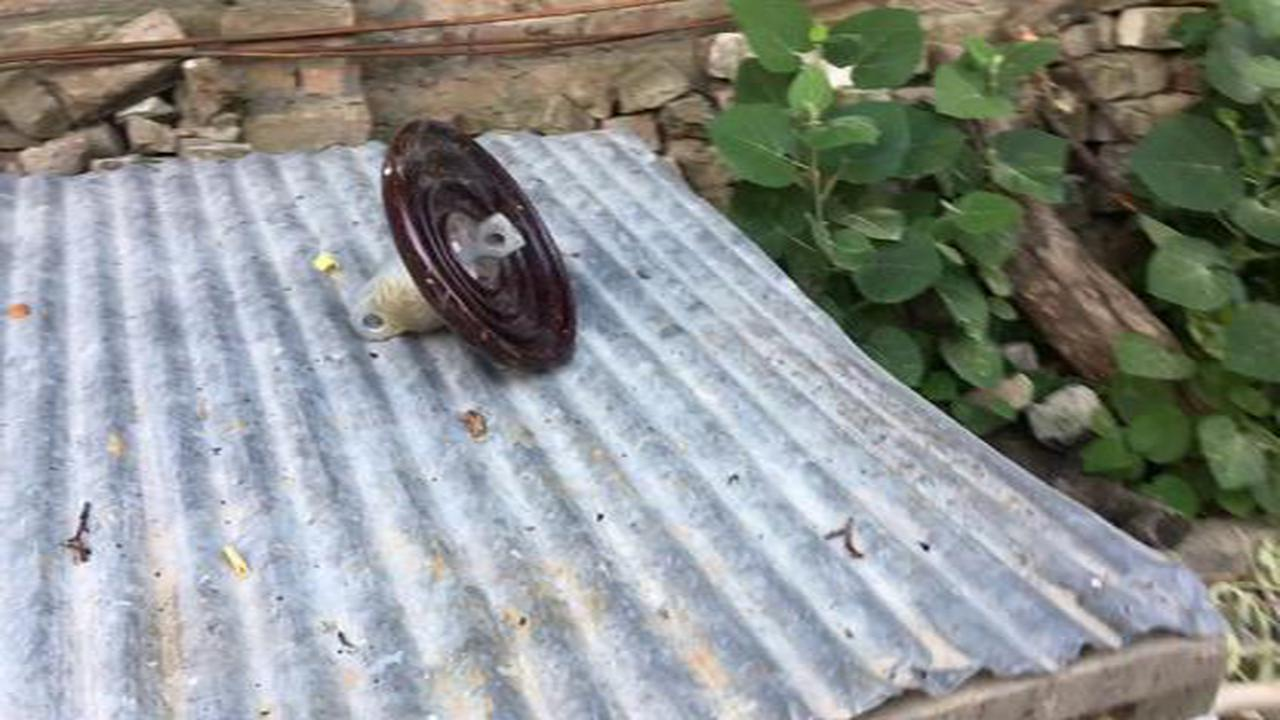insulator_disc: (347, 112, 584, 380)
